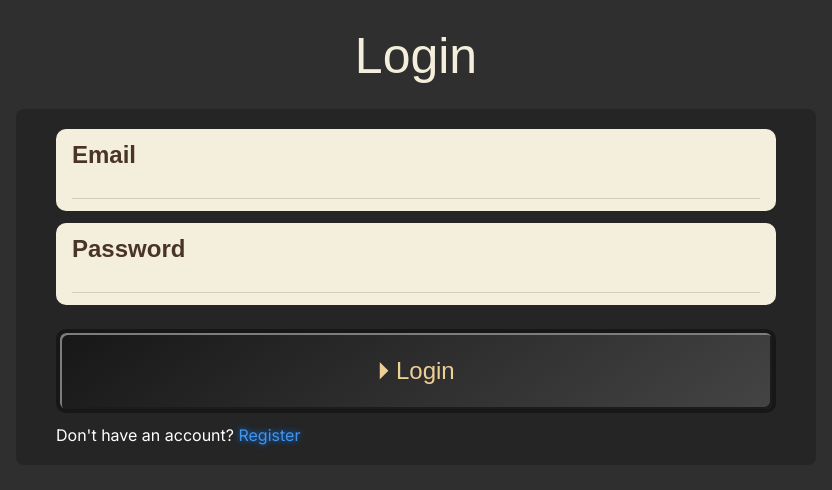
it: LoginPage › shows validation errors on empty submit
Step 1. Click the button "⏵ Login" → (416, 371), box [56,329,776,413]
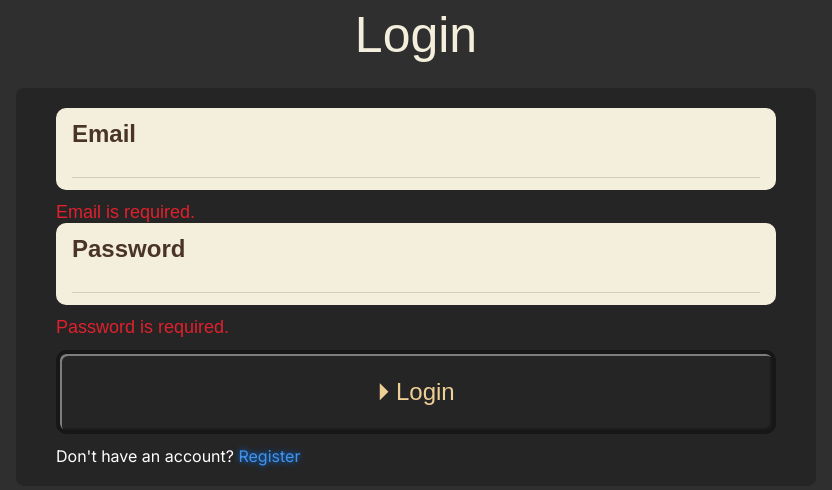
Check: the text "Email is required." is shown, box [56,202,195,222]
Check: the text "Password is required." is shown, box [56,317,229,337]
